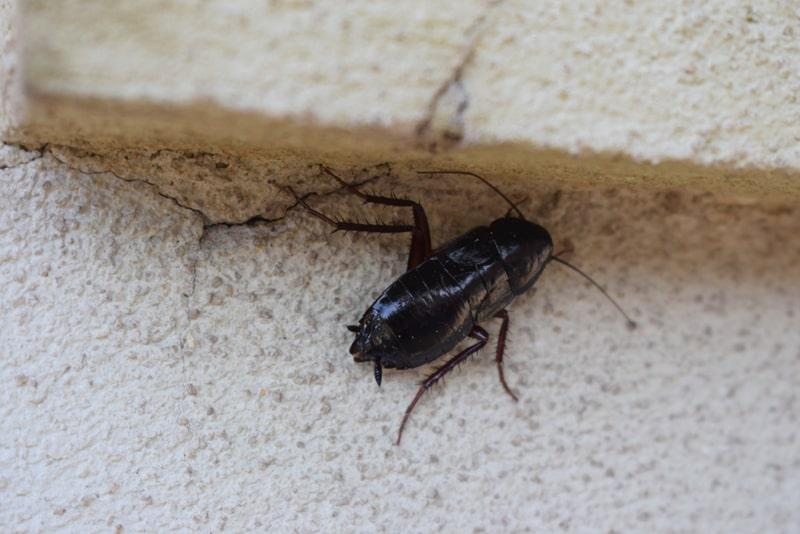cockroach: (336, 201, 558, 392)
